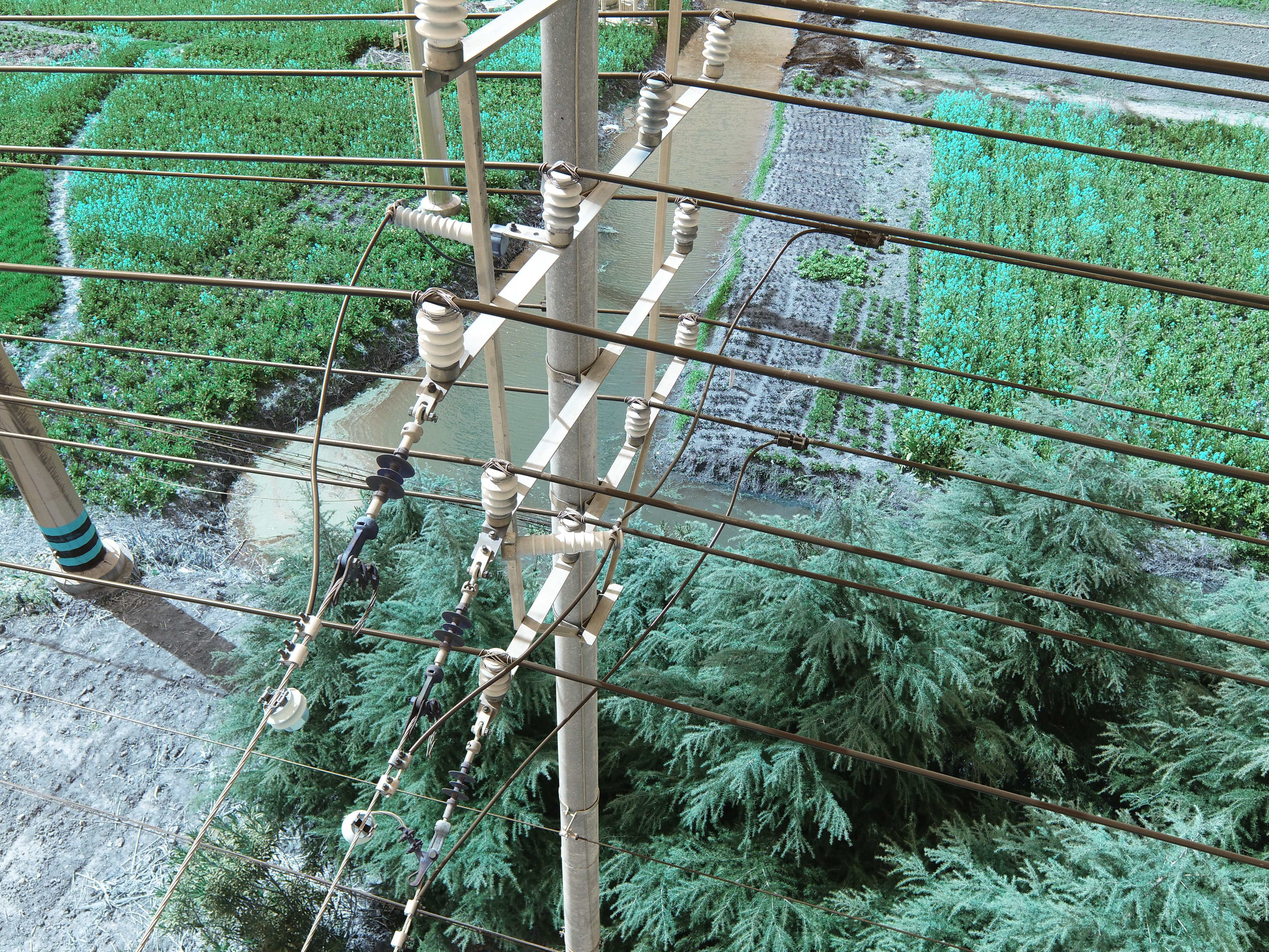severe_soiling_no_discharge_whole: (633, 72, 677, 153), (670, 197, 702, 254)
